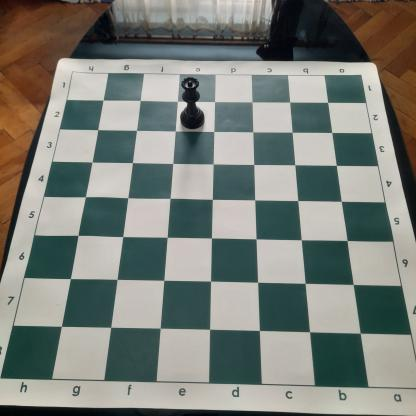black-queen: (178, 76, 206, 130)
